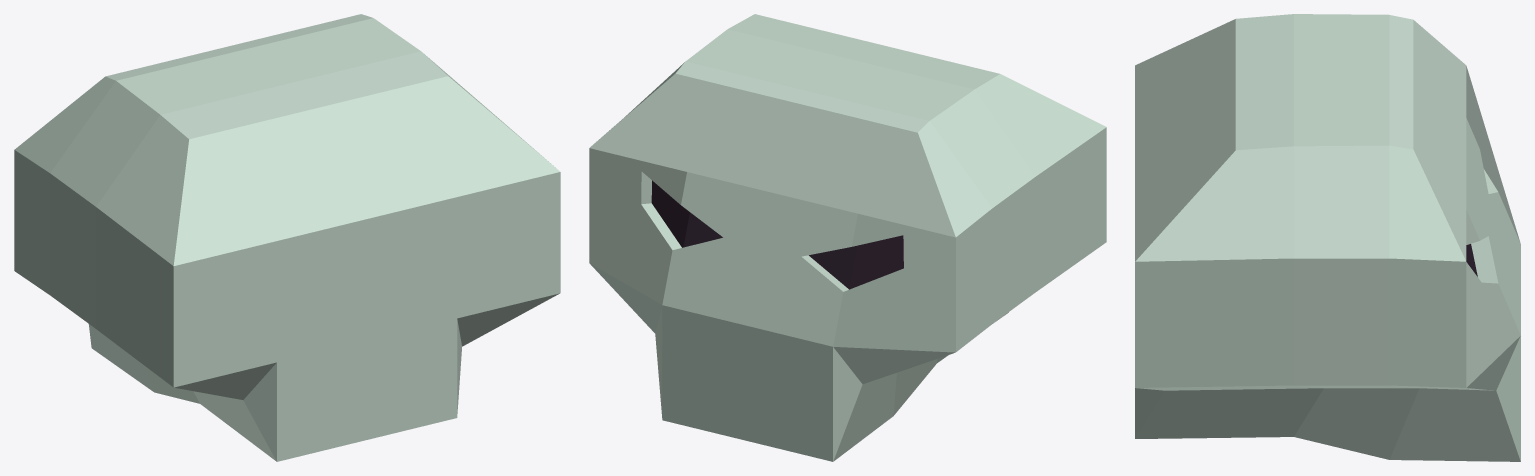
The model's file is Skull.obj.
The picture shows the model from 3 angles, left to right: view 1: azimuth 30°, elevation 25°; view 2: azimuth 150°, elevation 25°; view 3: azimuth 270°, elevation 25°; orthographic projection. The views are drawn at different scales.
Parts seen in each view (by area): view 1: Skull_Cube.027; view 2: Skull_Cube.027; view 3: Skull_Cube.027.
Part boxes in pixels (x1=…): Skull_Cube.027: x1=14, y1=14, x2=560, y2=461; Skull_Cube.027: x1=589, y1=14, x2=1106, y2=461; Skull_Cube.027: x1=1135, y1=14, x2=1520, y2=461.
Bounding box in the file's own units: 1.12 × 0.8856 × 0.9212.
